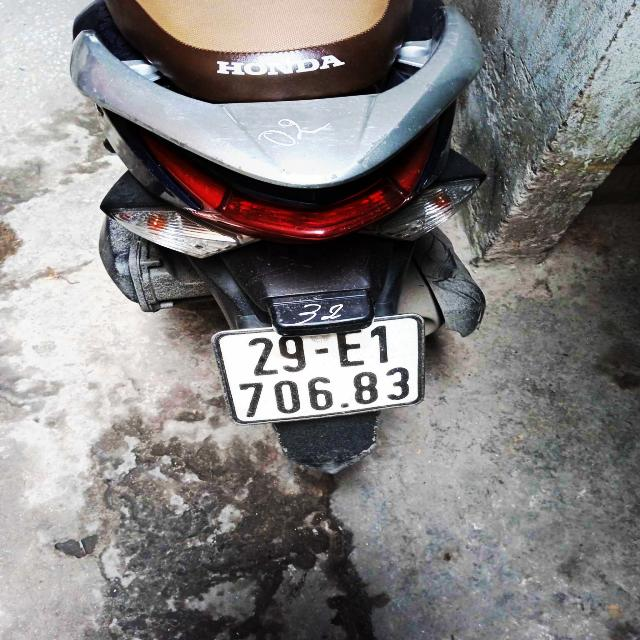license_plate: (198, 308, 436, 437)
